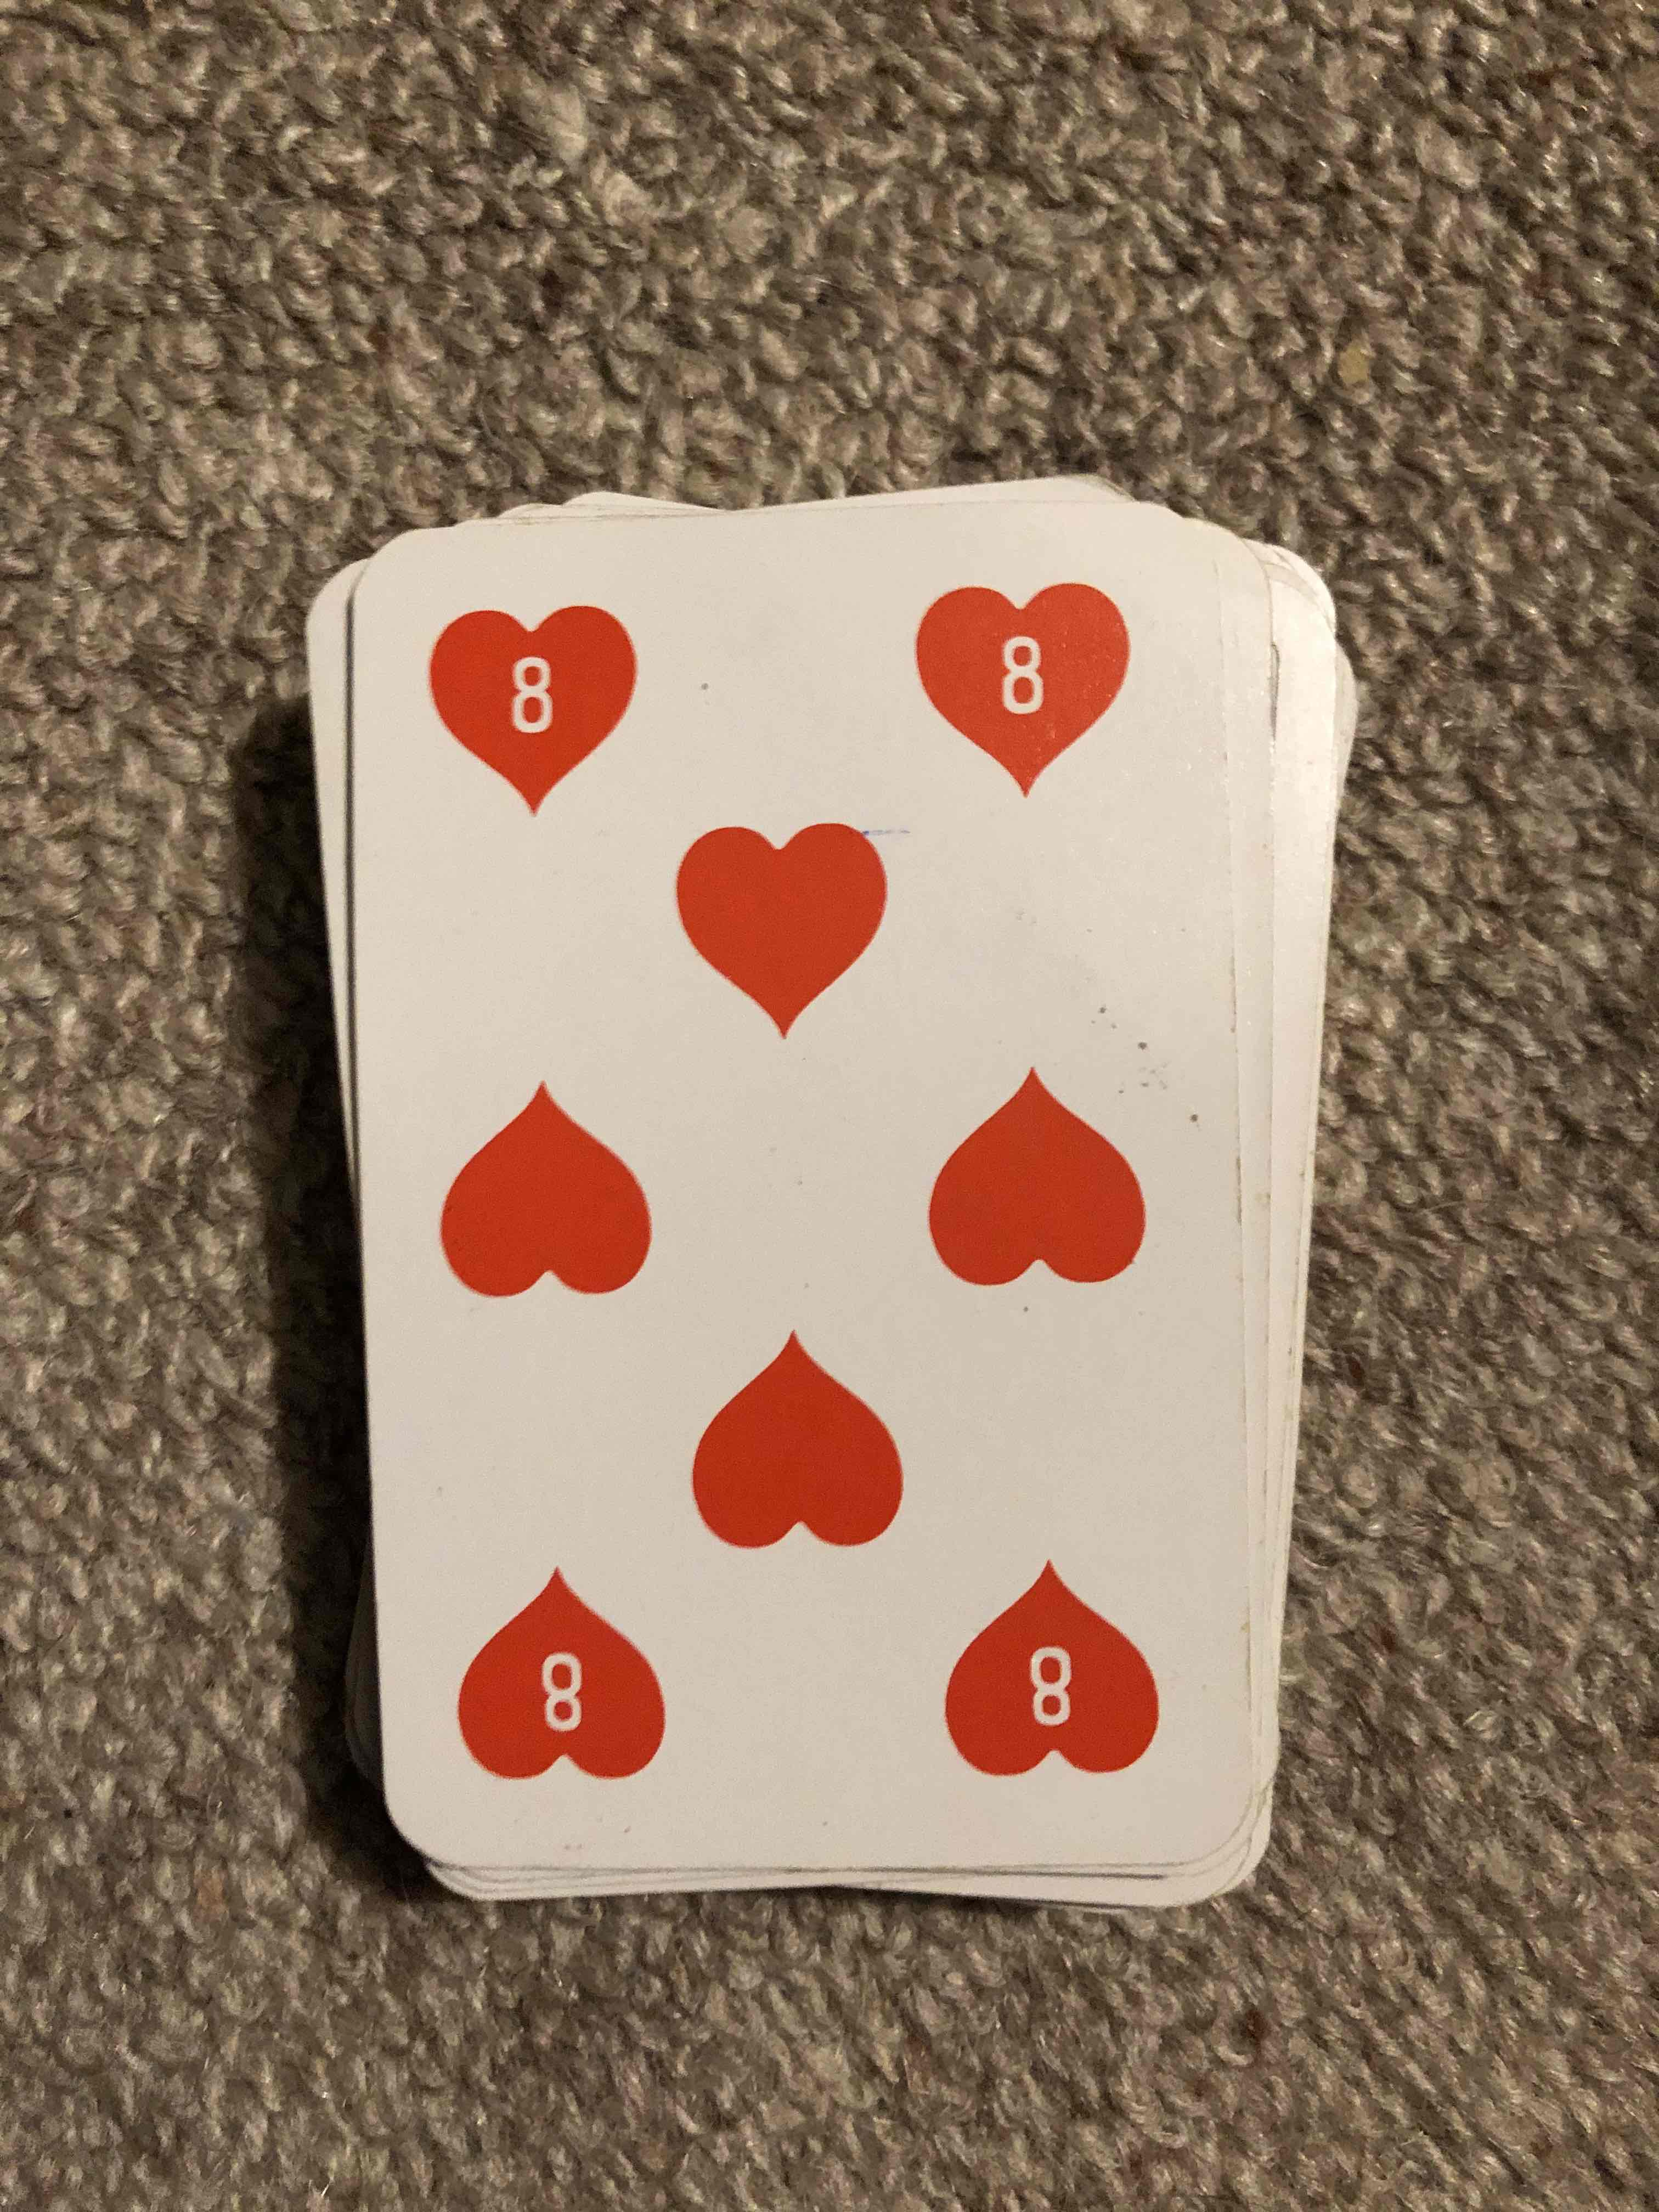hearts8: (362, 547, 1244, 1855)
